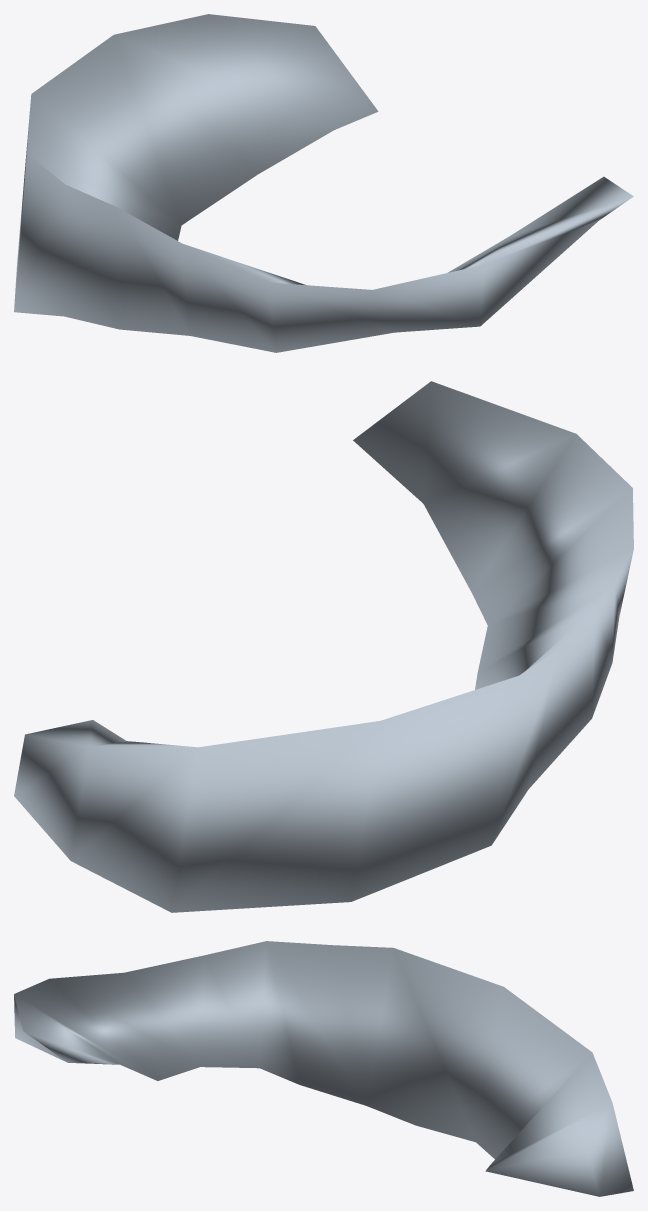
The model's file is medial-meniscus-l.glb.
3 renders of one model, top to bottom at view 1: azimuth 30°, elevation 25°; view 2: azimuth 150°, elevation 25°; view 3: azimuth 270°, elevation 25°, orthographic. The views are drawn at different scales.
Parts seen in each view (by area): view 1: Medial meniscus.l; view 2: Medial meniscus.l; view 3: Medial meniscus.l.
Part boxes in pixels (box(x1,y1,x2,y2)): Medial meniscus.l: box(14, 14, 633, 352); Medial meniscus.l: box(14, 381, 633, 912); Medial meniscus.l: box(14, 941, 633, 1196).
Bounding box in the file's own units: 0.0266 × 0.0157 × 0.0458.
